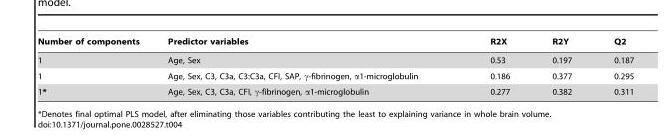table: (37, 36, 633, 95)
table column: (152, 36, 453, 95), (37, 36, 152, 95), (453, 36, 530, 95), (530, 36, 592, 95), (592, 36, 633, 95)
table column header: (37, 36, 633, 50)
table row: (37, 50, 633, 67), (37, 67, 633, 83), (37, 36, 633, 50), (37, 83, 633, 95)
